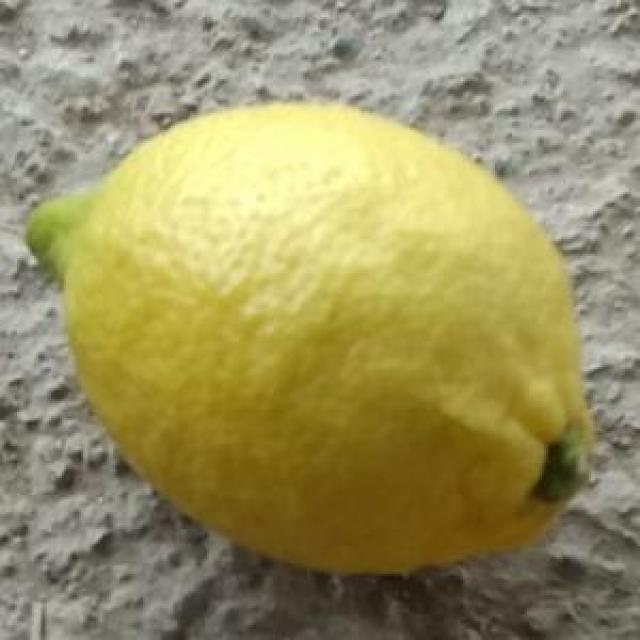lemon: (23, 91, 596, 571)
